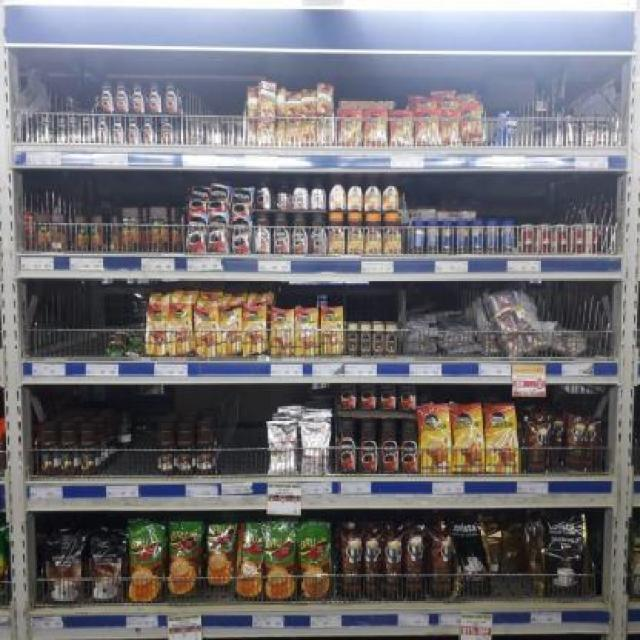Coffee: (193, 306, 219, 356), (146, 304, 170, 354), (337, 418, 358, 474), (170, 304, 193, 354), (358, 420, 379, 474), (320, 308, 344, 355), (243, 306, 266, 354), (220, 308, 242, 357), (271, 310, 294, 356), (296, 308, 318, 355), (379, 420, 398, 474), (399, 421, 418, 474), (207, 214, 228, 252), (339, 111, 361, 146), (186, 215, 206, 253), (365, 111, 386, 147), (254, 212, 272, 254), (290, 214, 308, 255), (418, 112, 439, 146), (391, 112, 412, 146), (384, 213, 401, 255), (347, 213, 364, 255), (328, 212, 344, 255), (365, 213, 381, 256), (364, 174, 382, 212), (440, 112, 460, 146), (274, 212, 290, 254), (382, 174, 400, 211), (460, 108, 480, 140), (328, 174, 346, 209), (232, 217, 250, 252), (188, 183, 208, 214), (311, 213, 326, 254), (208, 184, 228, 213), (348, 174, 363, 211), (232, 188, 253, 214), (275, 177, 291, 209), (311, 176, 326, 210), (257, 176, 271, 209), (294, 177, 308, 210), (115, 80, 128, 112), (101, 82, 113, 112), (359, 324, 370, 356), (372, 324, 383, 356), (347, 324, 358, 356), (387, 325, 398, 357), (165, 85, 177, 114), (160, 118, 173, 144), (149, 83, 160, 112), (132, 84, 143, 113), (127, 118, 139, 144), (97, 117, 108, 143), (142, 117, 153, 143), (112, 118, 123, 144)
